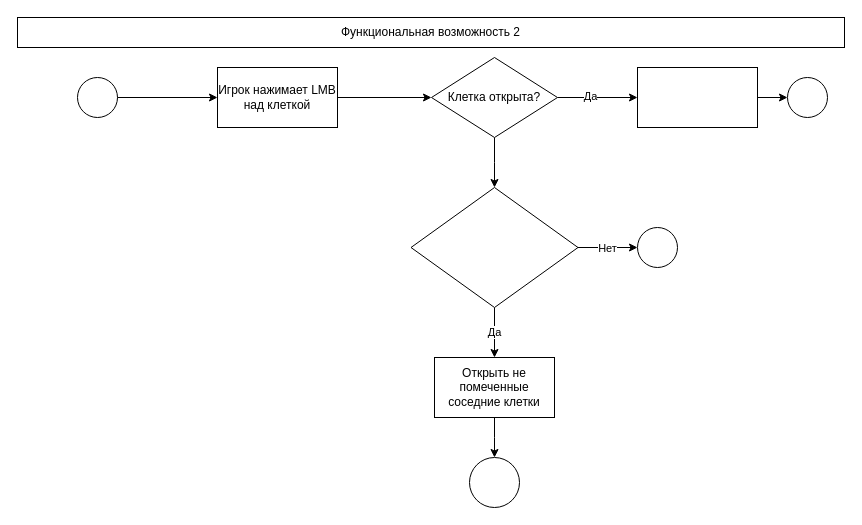
The diagram is 862 pixels wide and 525 high, and some of its shapes have lost their labels. Here are the shapes that lost their labels. From the top down, the centre of each, then its label:
At (x=697, y=97): "Открыть клету.".
At (x=494, y=247): "Количество соседних флагов равно числу в клетке?".
